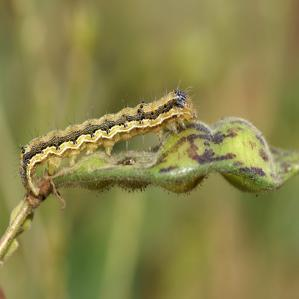Cotton bollworm: (14, 87, 224, 207)
